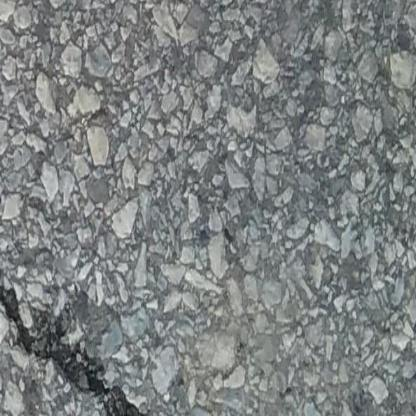Cracks: (0, 252, 204, 416)
